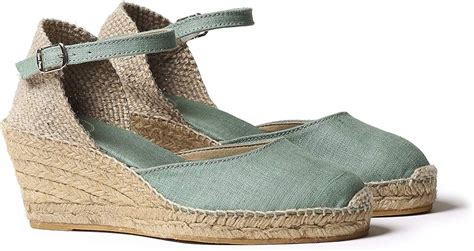nylon: (138, 110, 429, 210)
